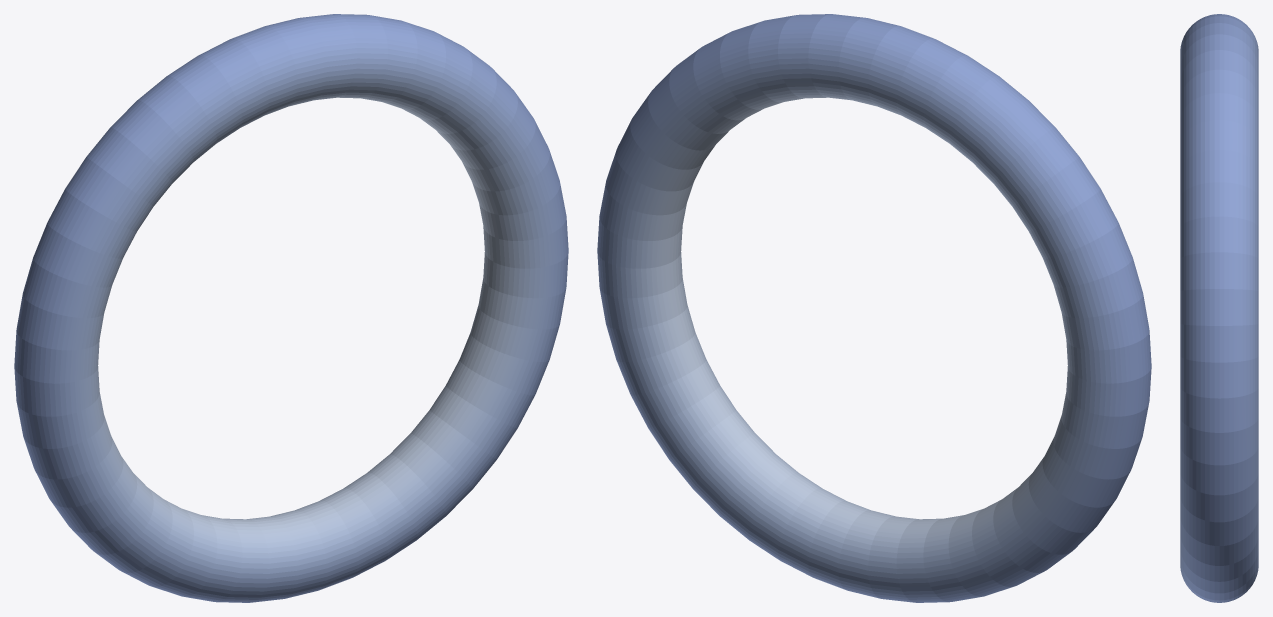
3 renders of one model, left to right at view 1: azimuth 30°, elevation 25°; view 2: azimuth 150°, elevation 25°; view 3: azimuth 270°, elevation 25°, orthographic. The views are drawn at different scales.
Visible parts, largest first — view 1: world; view 2: world; view 3: world.
Boxes of the visible parts, x1,y1,x2,y2 form: world: (14,14,568,602); world: (597,14,1151,602); world: (1180,14,1258,602).
Size of the model in its own units: 26.93 by 26.88 by 3.59.
